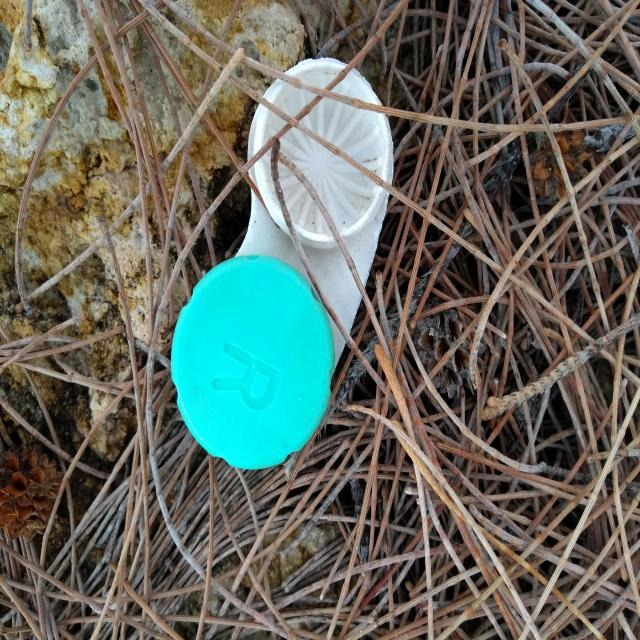Other plastic bottle: (171, 58, 393, 469)
